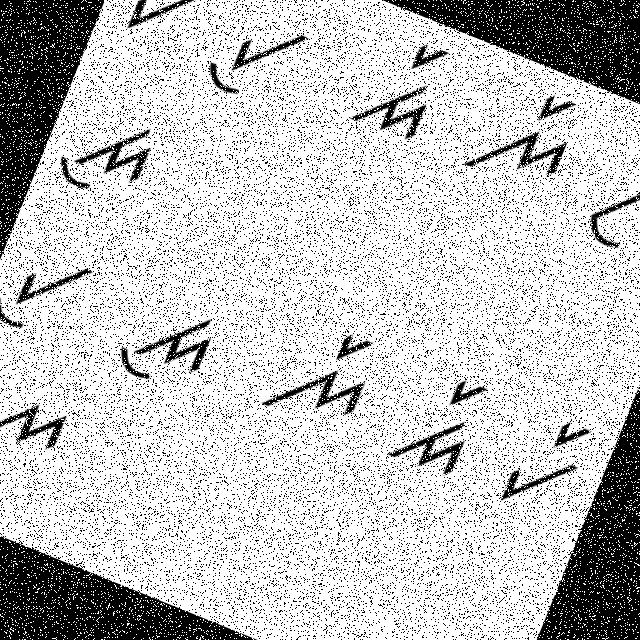dar: (378, 352, 502, 498), (349, 21, 472, 156)
daw: (100, 274, 232, 416), (42, 90, 174, 220)
nar: (455, 64, 591, 209), (250, 308, 387, 449)
naw: (0, 370, 82, 501), (575, 149, 639, 274)
par: (484, 394, 602, 529), (110, 0, 224, 53)
paw: (185, 0, 320, 122), (0, 226, 100, 351)
